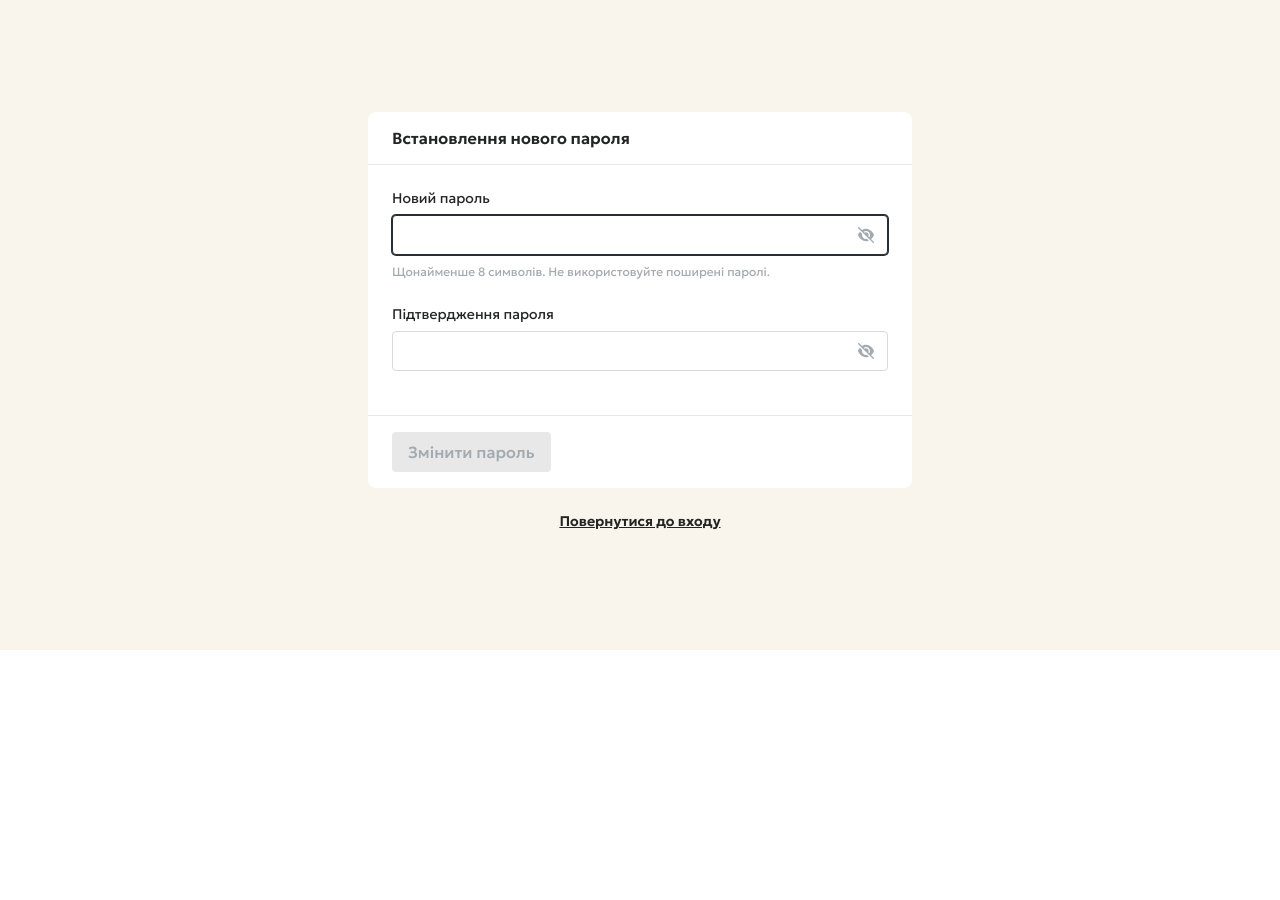
Test: RestorePassword page › shows success and a login link after password reset
Type "SecurePass123!" into the password field labelled "Новий пароль" at (640, 235), box [392,215,888,255]
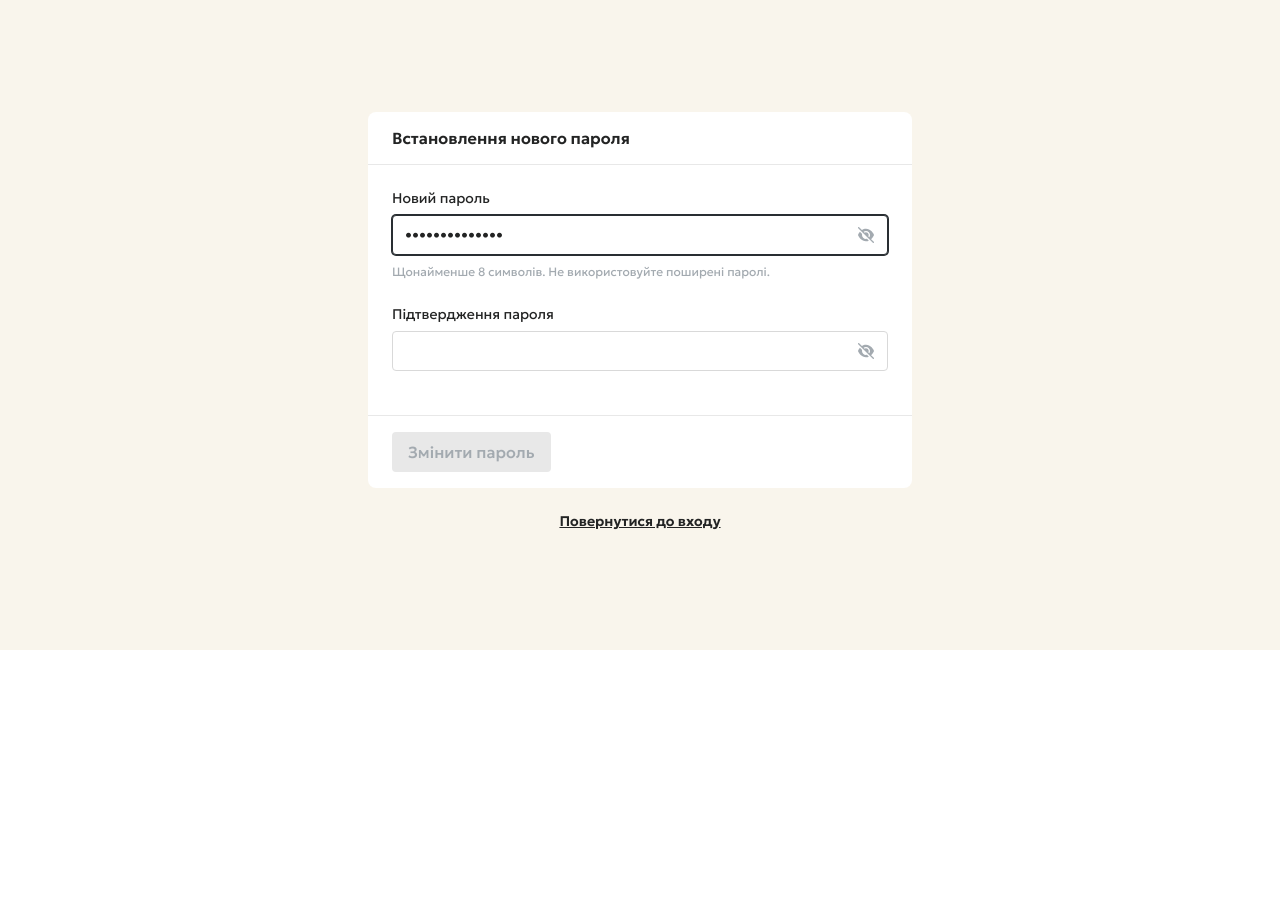
Type "SecurePass123!" into the password field labelled "Підтвердження пароля" at (640, 351), box [392,331,888,371]
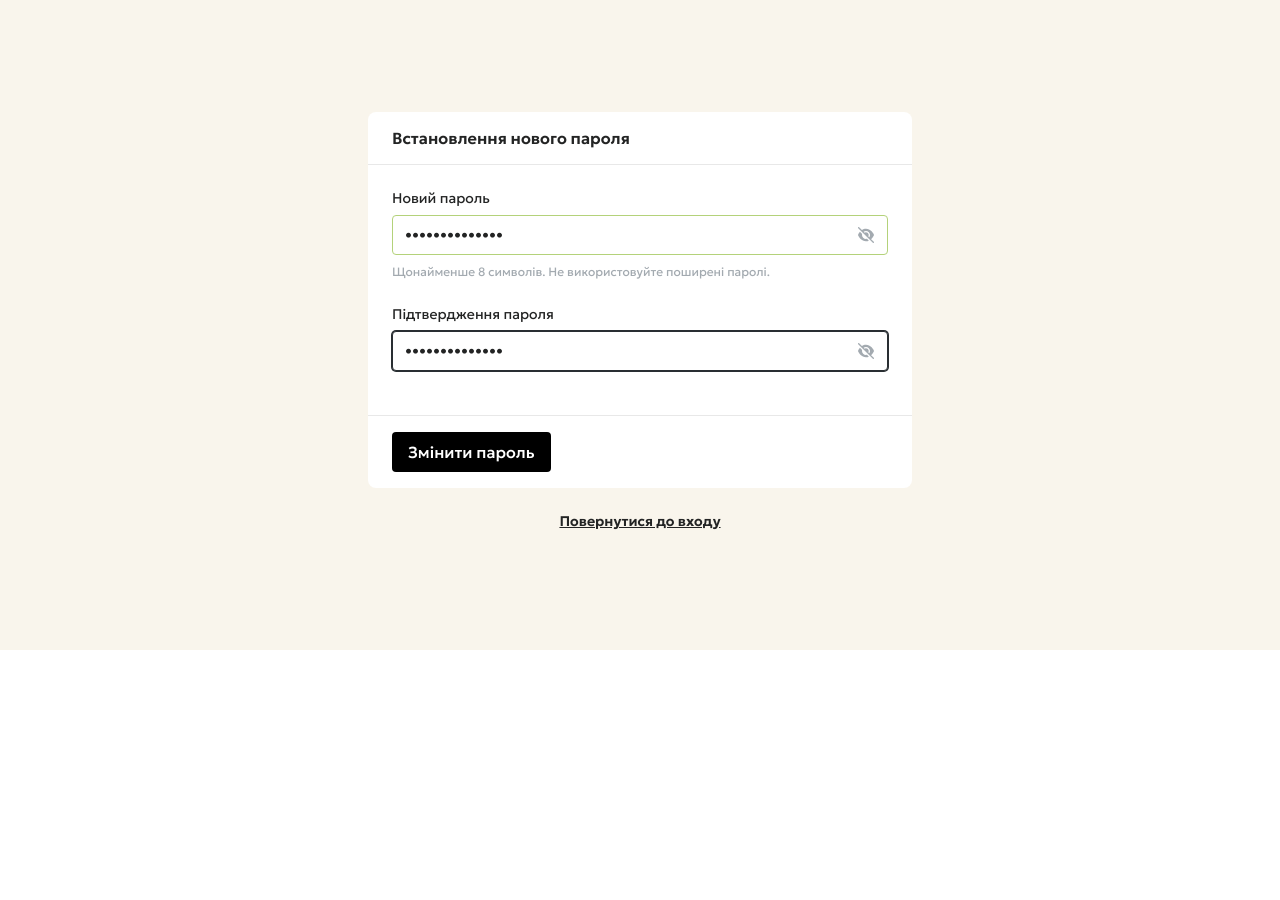
Click the button "Змінити пароль" at (471, 452), box [392,432,551,472]
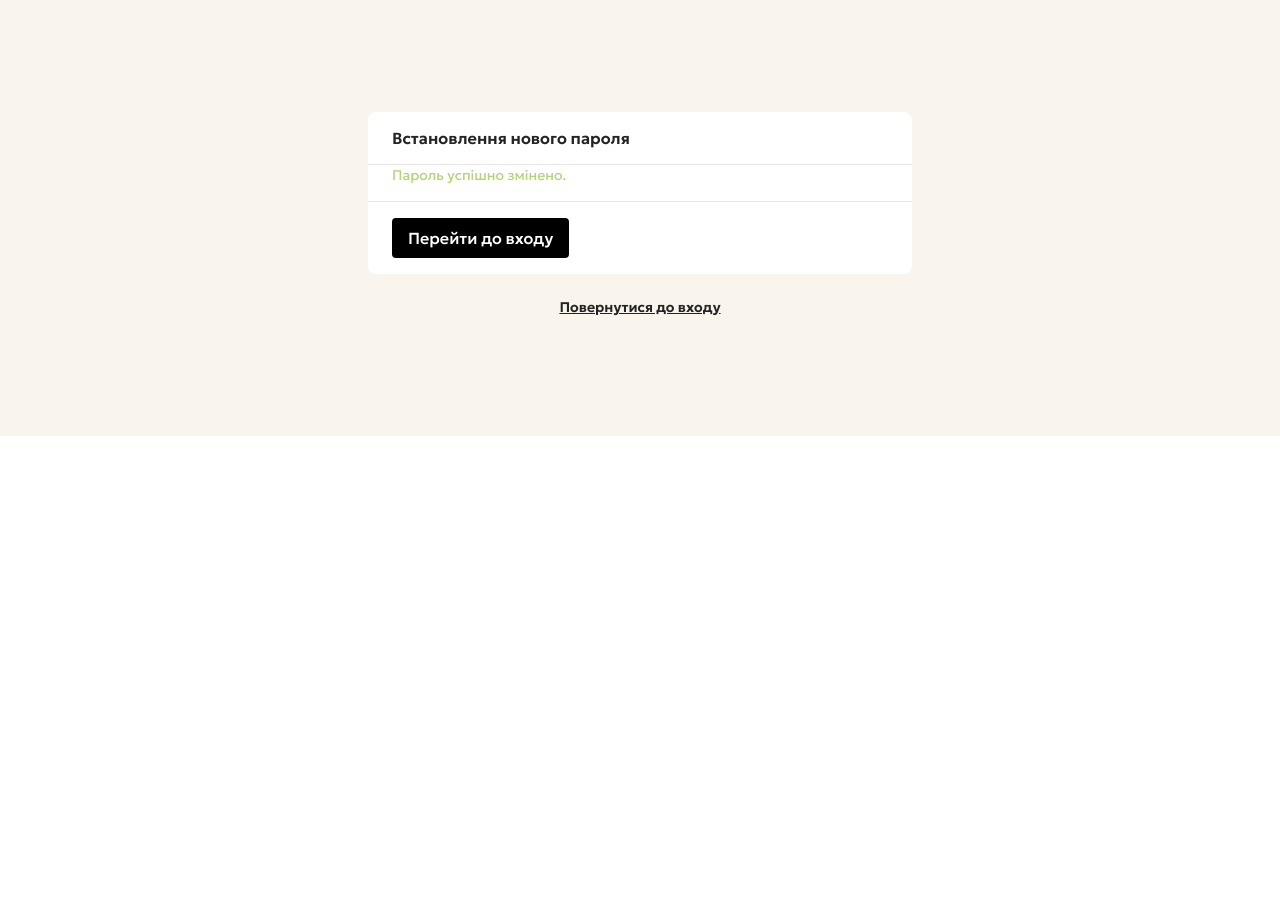
Now the text "Пароль успішно змінено." is shown, box [392,166,566,184]
Now the label labelled "Новий пароль" is gone
